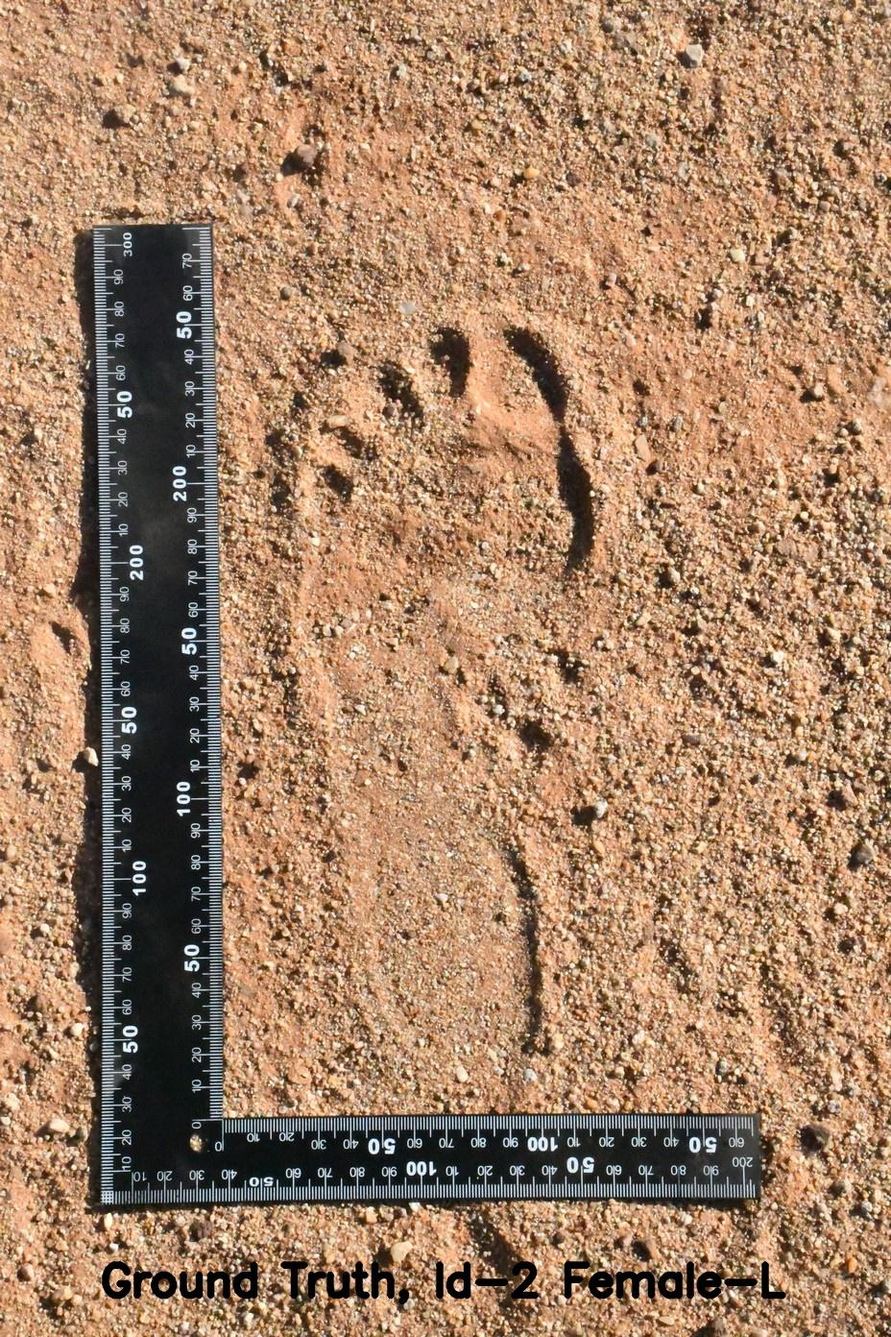human_foot_print: (247, 247, 654, 1098)
